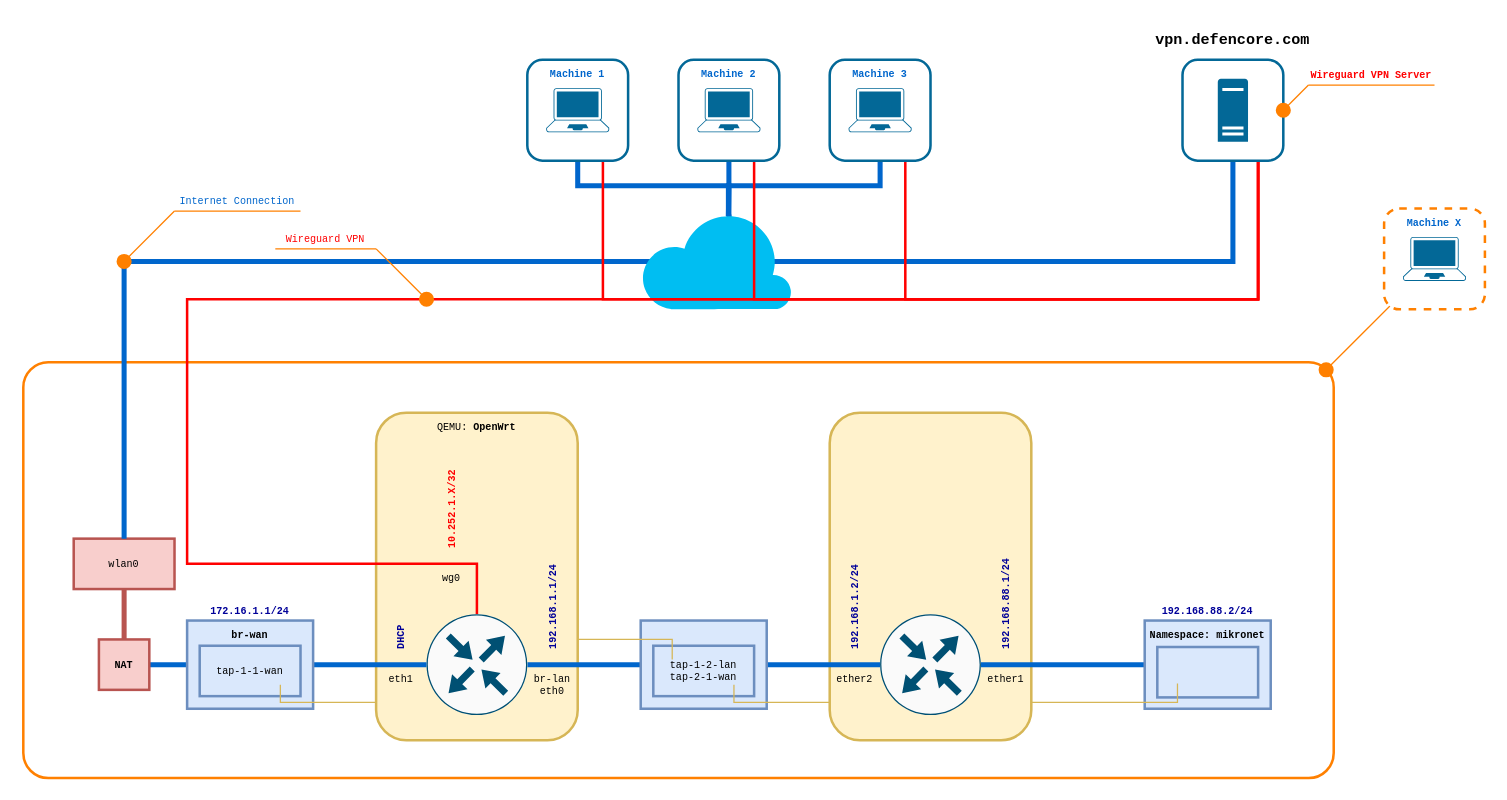
The diagram is 1507 pixels wide and 800 high, and some of its shapes have lost their labels. The shapes that lost their labels are listed below. From the top down, each one's box as (x1, y1, x2, y2) in pixels, then its label:
(640, 210, 791, 309): INTERNET
(828, 411, 1032, 741): QEMU: MikroTik
(639, 619, 767, 709): br-net-1
(1155, 645, 1259, 698): tap-2-2-lan
